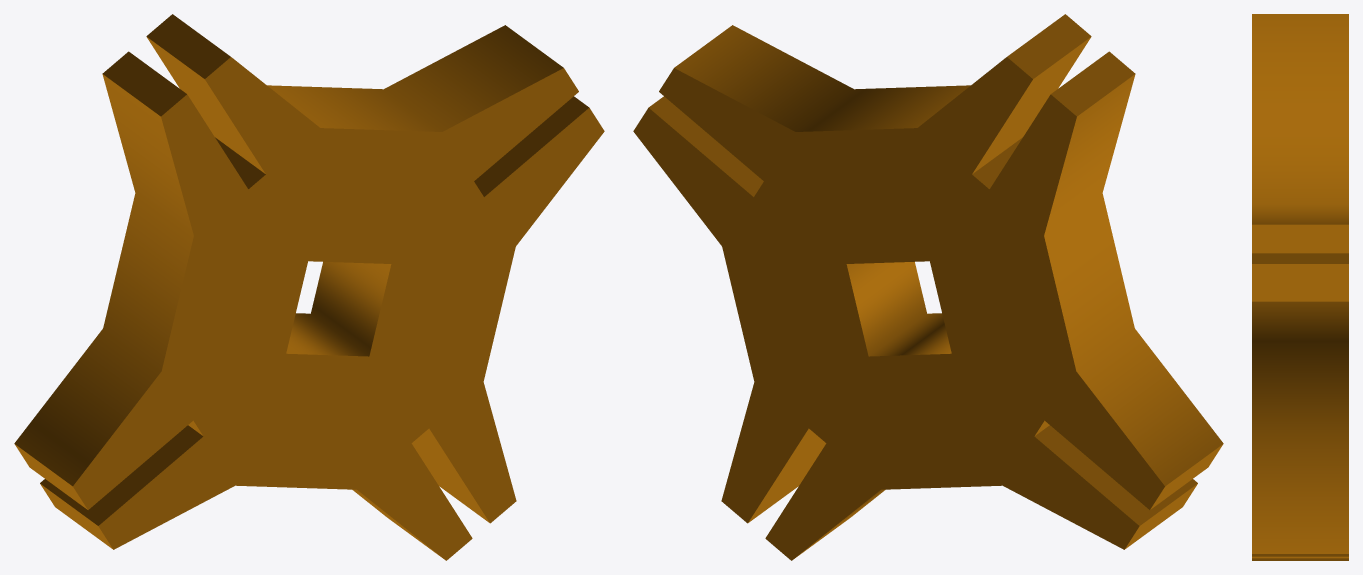
Rendered from Copie de Etoile Moulin 2^Copie de ASS Moulin_Horloge Comtoise Verge - Sonnerie.obj.
3 views of the same model, side by side, from view 1: azimuth 30°, elevation 25°; view 2: azimuth 150°, elevation 25°; view 3: azimuth 270°, elevation 25° (orthographic). The views are drawn at different scales.
Visible parts, largest first — view 1: Face_15, Face_7, Face_4, Face_2, Face_9, Face_5, Face_14, Face_20, Face_18, Face_12, Face_23, Face_21 (+1 smaller); view 2: Face_1, Face_7, Face_4, Face_2, Face_9, Face_5, Face_14, Face_20, Face_18, Face_12, Face_23, Face_21 (+1 smaller); view 3: Face_13, Face_4, Face_17, Face_27, Face_3, Face_16, Face_11, Face_24, Face_26.
Part boxes in pixels (x1,y1,x2,y2): Face_15: [73, 57, 604, 560]; Face_7: [14, 74, 193, 486]; Face_4: [267, 25, 563, 131]; Face_2: [286, 262, 391, 356]; Face_9: [40, 425, 203, 525]; Face_5: [147, 37, 265, 173]; Face_14: [474, 96, 588, 196]; Face_20: [102, 51, 186, 116]; Face_18: [146, 14, 230, 78]; Face_12: [411, 428, 489, 522]; Face_23: [40, 484, 113, 549]; Face_21: [14, 444, 87, 509]; Face_1: [633, 57, 1164, 560]; Face_7: [1044, 74, 1223, 486]; Face_4: [674, 25, 970, 131]; Face_2: [846, 262, 951, 356]; Face_9: [1034, 425, 1197, 525]; Face_5: [972, 37, 1090, 173]; Face_14: [649, 96, 763, 196]; Face_20: [1051, 51, 1135, 116]; Face_18: [1007, 14, 1091, 78]; Face_12: [748, 428, 826, 522]; Face_23: [1124, 484, 1197, 549]; Face_21: [1150, 444, 1223, 509]; Face_13: [1252, 301, 1348, 553]; Face_4: [1252, 14, 1348, 224]; Face_17: [1252, 224, 1348, 253]; Face_27: [1252, 272, 1348, 301]; Face_3: [1252, 253, 1348, 263]; Face_16: [1252, 264, 1348, 272]; Face_11: [1252, 556, 1348, 558]; Face_24: [1252, 558, 1348, 560]; Face_26: [1252, 554, 1348, 556].
Size of the model in its own units: 0.0131 by 0.0131 by 0.0025.
